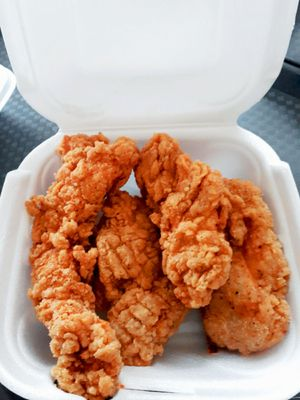curry: (0, 2, 299, 397)
